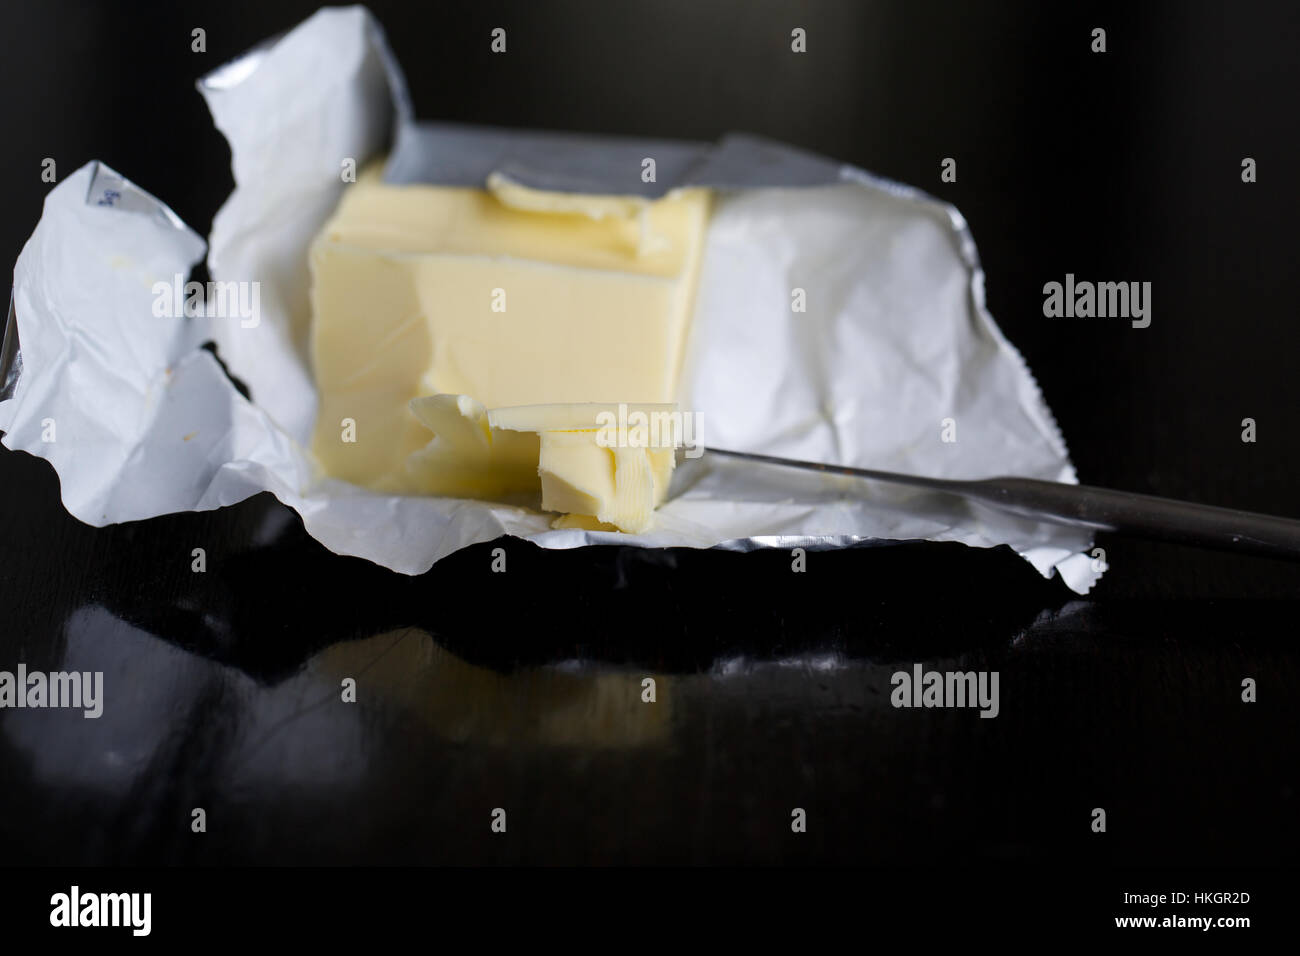Butter: (418, 390, 697, 528)
